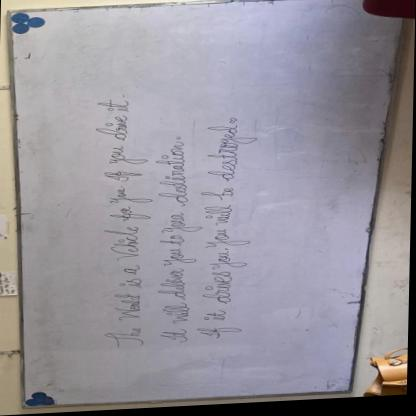Handwritten text: (86, 100, 155, 352), (194, 124, 264, 342), (152, 142, 204, 347)
